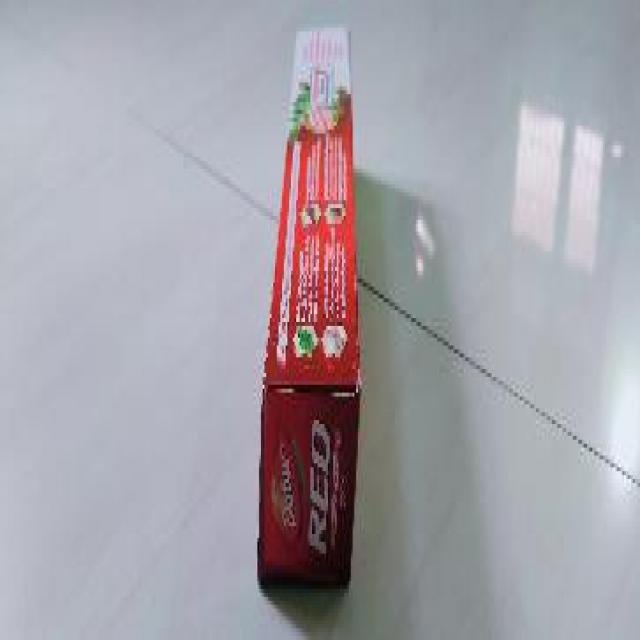tooth paste: (260, 13, 363, 605)
